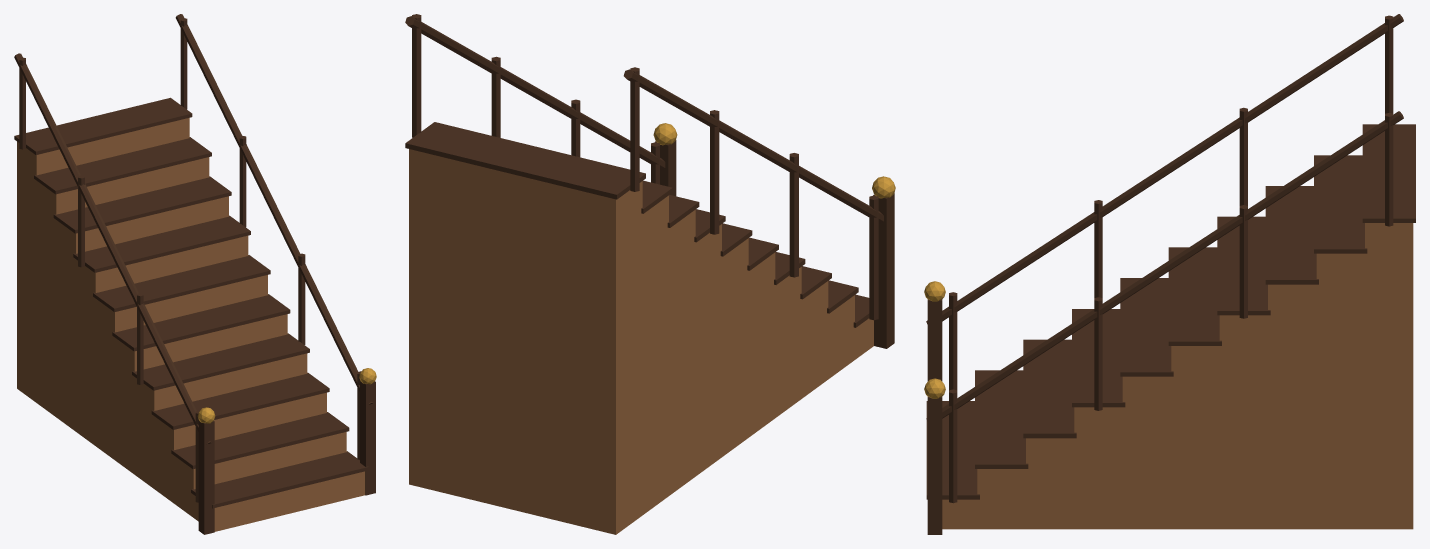
Rendered from stairs.glb.
3 views of the same model, side by side, from view 1: azimuth 30°, elevation 25°; view 2: azimuth 150°, elevation 25°; view 3: azimuth 270°, elevation 25° (orthographic). The views are drawn at different scales.
Visible parts, largest first — view 1: stairs; view 2: stairs; view 3: stairs.
Part boxes in pixels (x1,y1,x2,y2): stairs: (14,14,376,534); stairs: (405,14,895,534); stairs: (924,14,1415,534).
Size of the model in its own units: 2.08 by 3.83 by 4.06.
